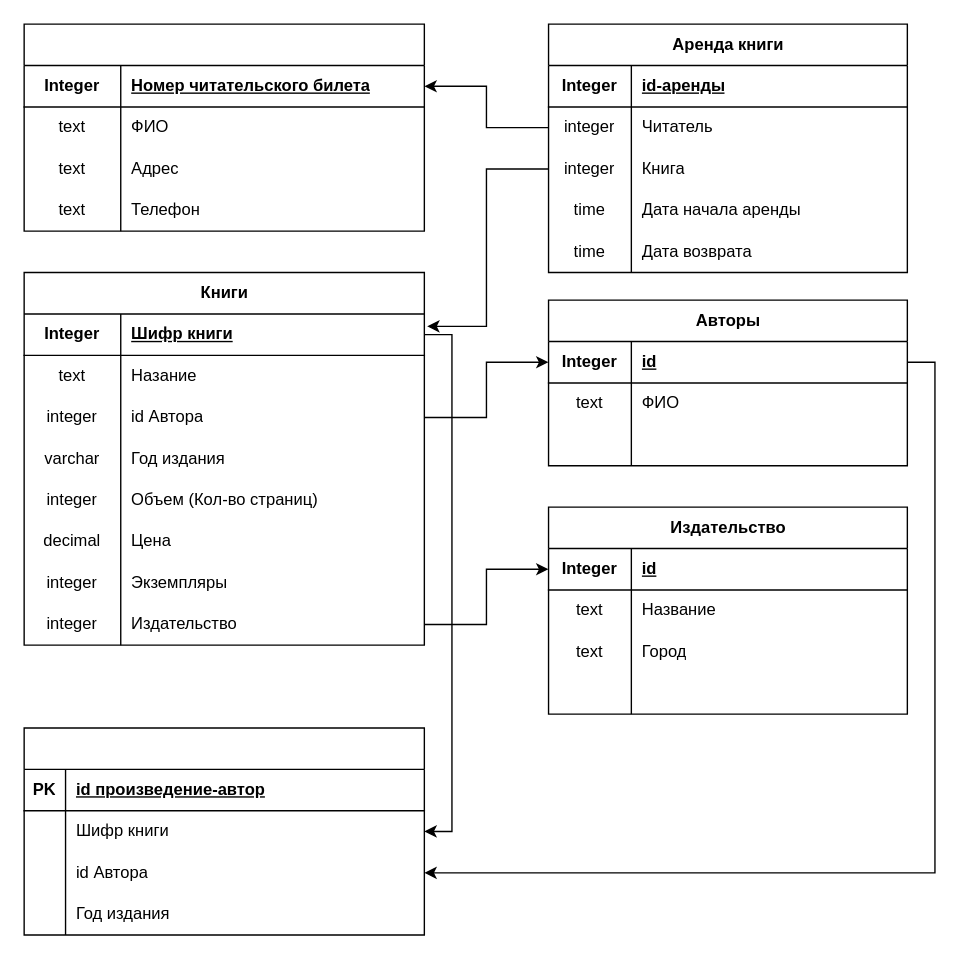
Image size: 970x959. Some labels were removed from this diagram. Each missing label, with the box of its shape:
Книги авторов: (23, 727, 424, 935)
Читатели: (23, 23, 424, 231)
